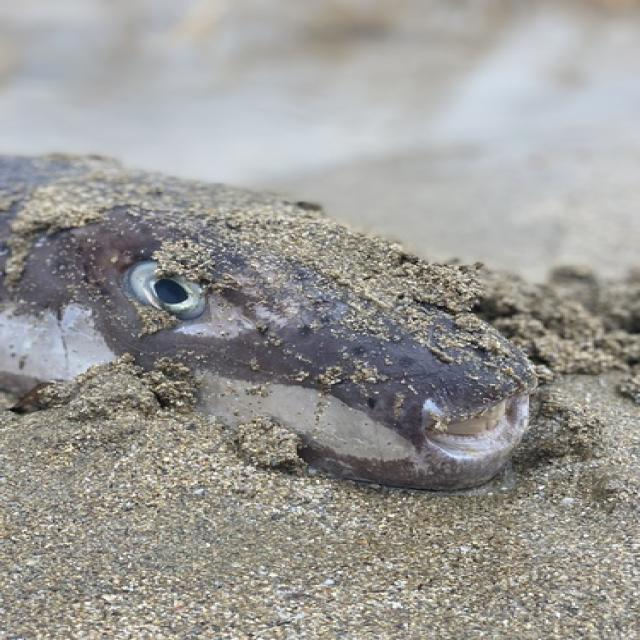Balik: (0, 157, 534, 490)
